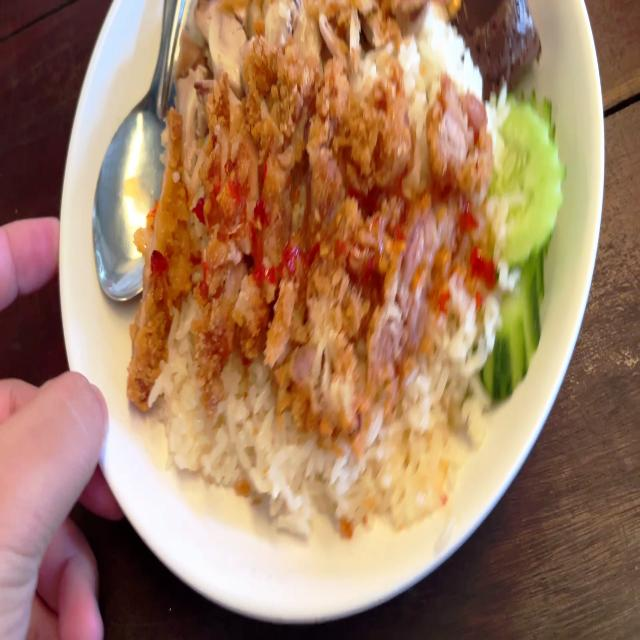boiled_chicken: (193, 0, 422, 82)
boiled_chicken_blood_jelly: (440, 0, 544, 87)
chicken_rice: (119, 0, 549, 529)
cucumber: (480, 95, 552, 384)
fried_chicken: (142, 88, 431, 399)
